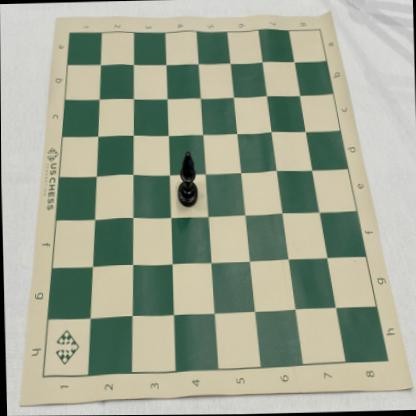black-bishop: (175, 150, 198, 208)
